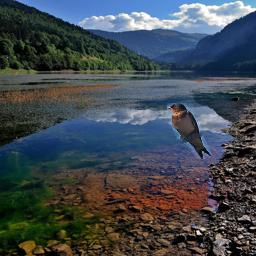Swallow: (167, 103, 211, 159)
